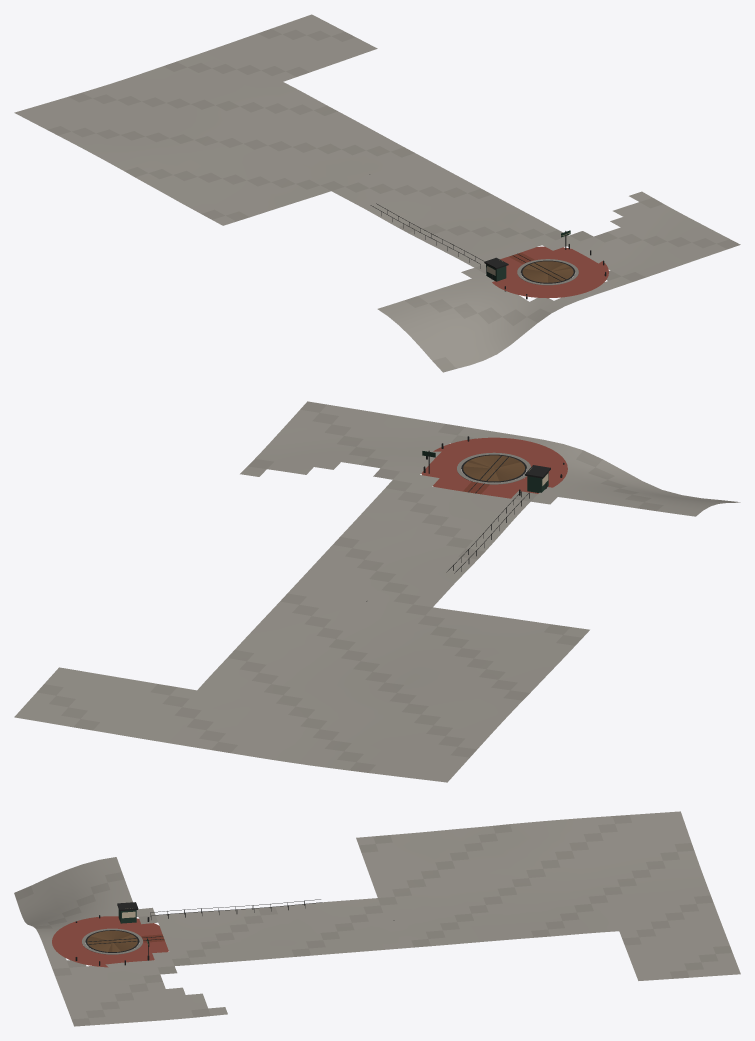
The model's file is turntable_lod0.glb.
3 views of the same model, one above another, from view 1: azimuth 30°, elevation 25°; view 2: azimuth 150°, elevation 25°; view 3: azimuth 270°, elevation 25° (orthographic). The views are drawn at different scales.
Parts seen in each view (by area): view 1: L0_paving, L0_metal, L0_wood; view 2: L0_paving, L0_wood, L0_metal; view 3: L0_paving, L0_metal, L0_wood, L0_granite.
Part boxes in pixels (x1,y1,x2,y2): L0_paving: (14,14,740,372); L0_metal: (369,174,606,299); L0_wood: (522,261,573,282); L0_paving: (14,401,740,782); L0_wood: (463,455,524,481); L0_metal: (366,436,564,601); L0_paving: (14,811,740,1026); L0_metal: (75,899,394,965); L0_wood: (87,930,137,951); L0_granite: (82,928,142,954).
Bounding box in the file's own units: 83.66 × 9.04 × 126.
